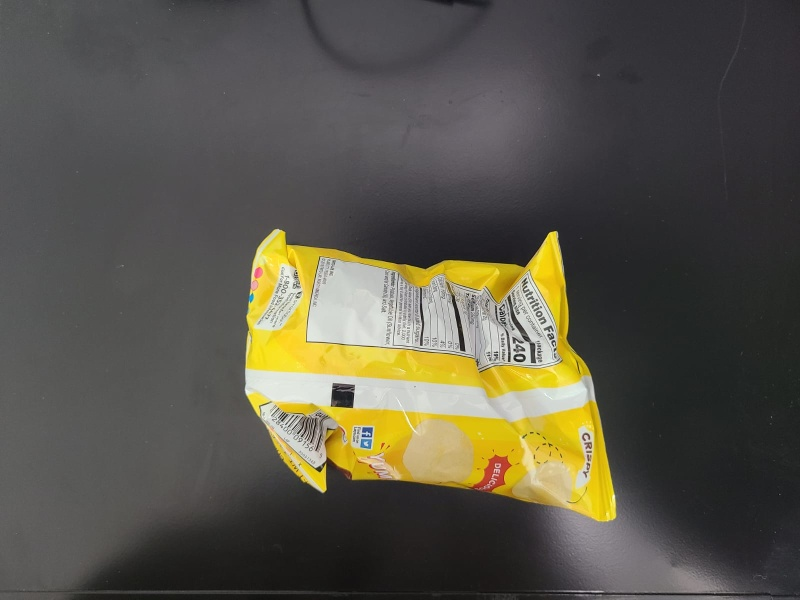lays: (245, 227, 617, 523)
